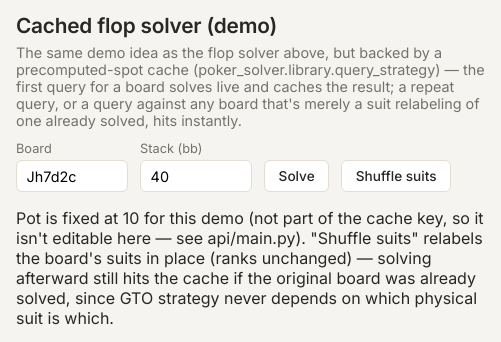
Scenario: CachedFlopSolver › shuffle suits rewrites the board input by rotating each card's suit
Click the button "Shuffle suits": (396, 176) [341,160,451,192]
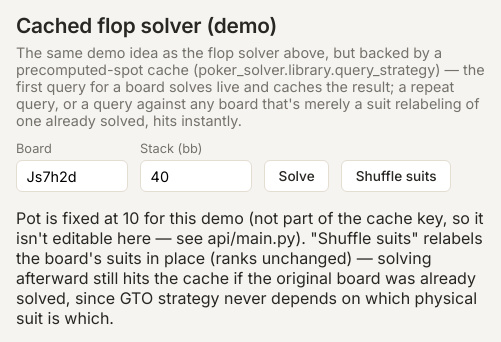
Expected: the field labelled "Board" holds "Js7h2d", [16,160,128,192]
